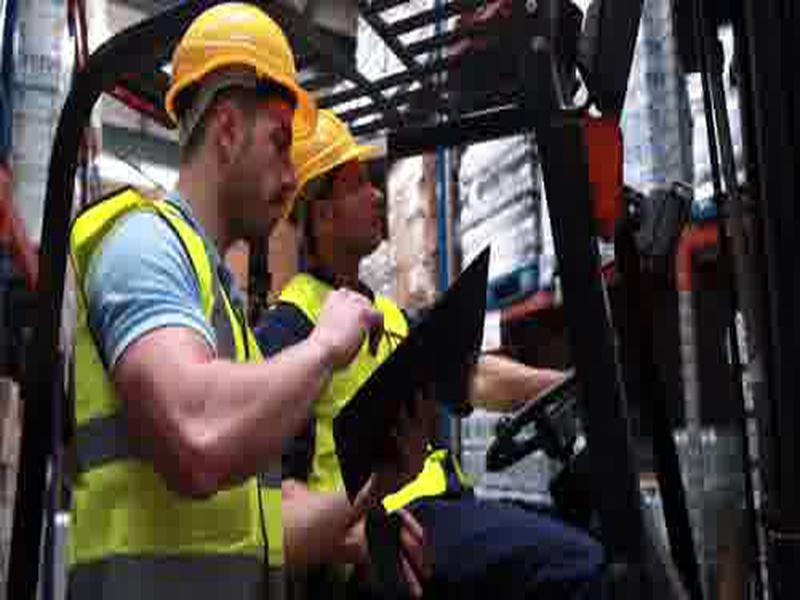hard-hat: (164, 3, 322, 147), (245, 105, 391, 221)
